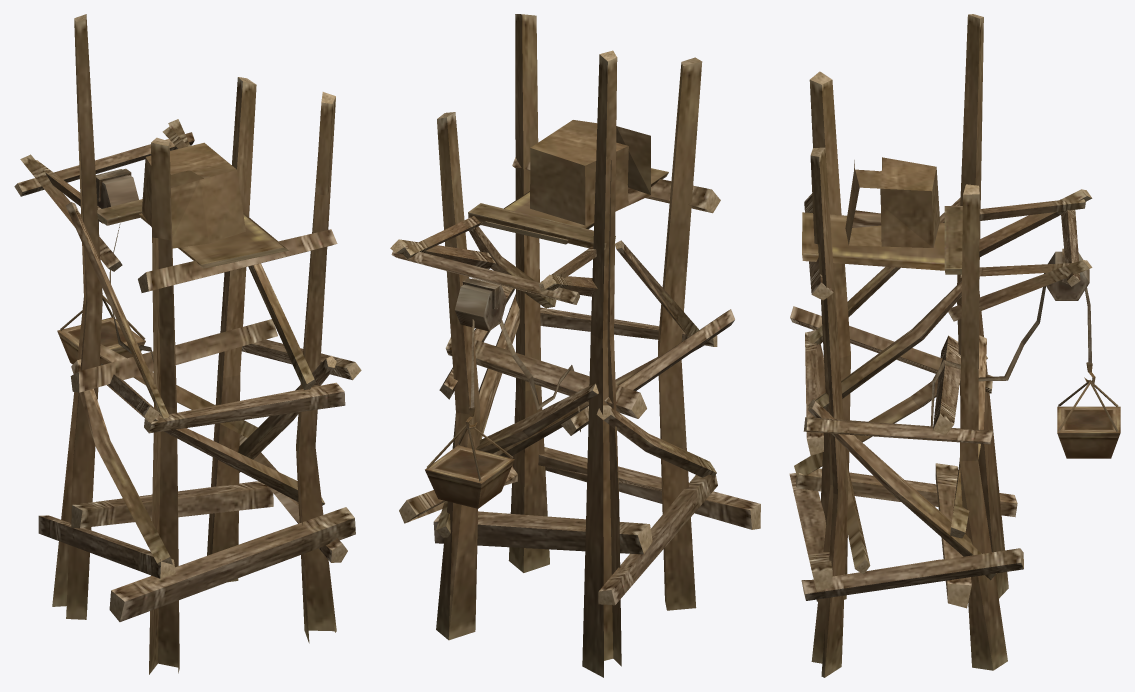
The model's file is PulleyBlock.FBX.
The picture shows the model from 3 angles, left to right: view 1: azimuth 30°, elevation 25°; view 2: azimuth 150°, elevation 25°; view 3: azimuth 270°, elevation 25°; orthographic projection. The views are drawn at different scales.
Parts seen in each view (by area): view 1: PulleyBlock01; view 2: PulleyBlock01; view 3: PulleyBlock01.
Boxes of the visible parts, x1=… form: PulleyBlock01: x1=14, y1=14, x2=361, y2=674; PulleyBlock01: x1=390, y1=14, x2=760, y2=677; PulleyBlock01: x1=789, y1=14, x2=1120, y2=677.
Size of the model in its own units: 110 by 253 by 131.
